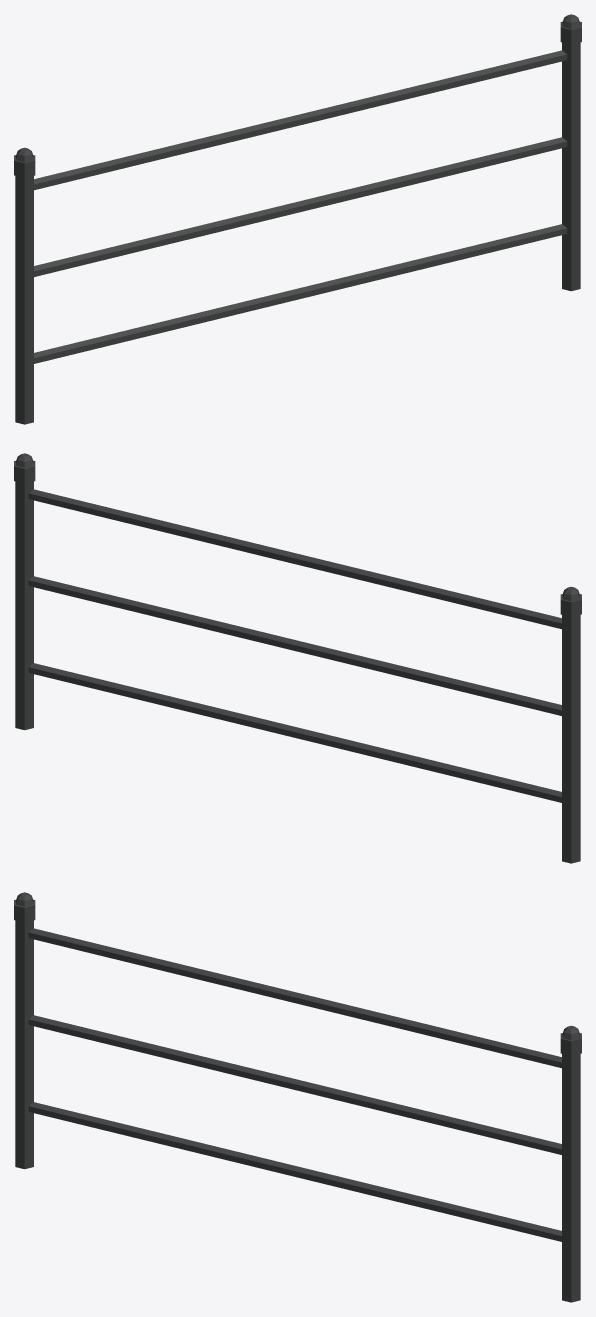
Rendered from SM_fence_01.fbx.
3 renders of one model, top to bottom at view 1: azimuth 30°, elevation 25°; view 2: azimuth 150°, elevation 25°; view 3: azimuth 330°, elevation 25°, orthographic.
Visible parts, largest first — view 1: Cylinder025; view 2: Cylinder025; view 3: Cylinder025.
Boxes of the visible parts, bbox=[...] form: Cylinder025: bbox=[14, 14, 581, 424]; Cylinder025: bbox=[14, 453, 581, 863]; Cylinder025: bbox=[14, 892, 581, 1302].
Size of the model in its own units: 101 by 3.31 by 46.11.
